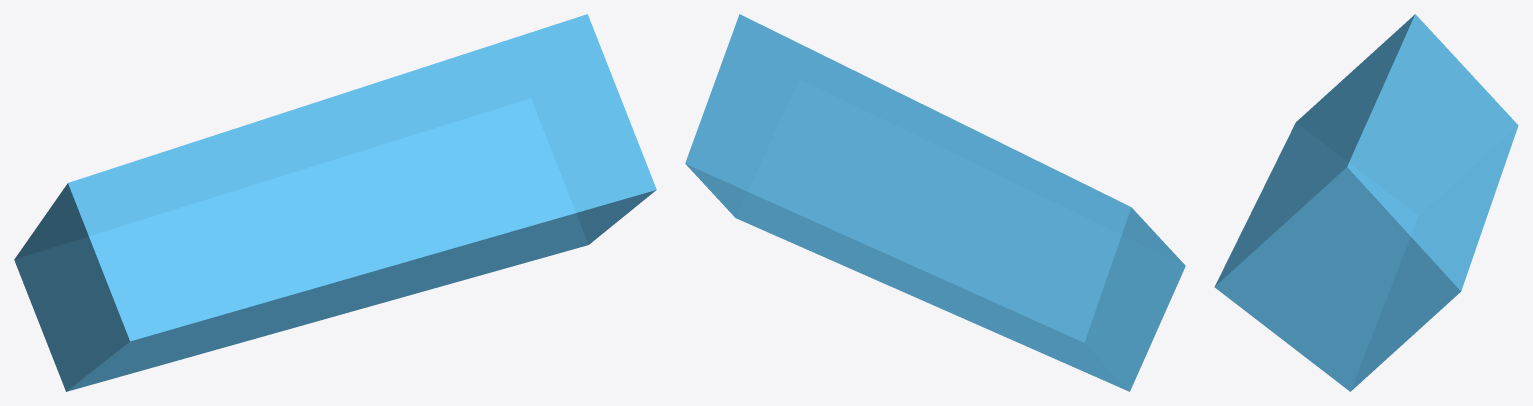
File: Event_420094457_HErechit_42.fbx
The picture shows the model from 3 angles, left to right: view 1: azimuth 30°, elevation 25°; view 2: azimuth 150°, elevation 25°; view 3: azimuth 270°, elevation 25°; orthographic projection. The views are drawn at different scales.
Visible parts, largest first — view 1: Model; view 2: Model; view 3: Model.
Boxes of the visible parts, x1,y1,x2,y2 form: Model: (14, 14, 656, 391); Model: (685, 14, 1185, 391); Model: (1214, 14, 1518, 391).
Bounding box in the file's own units: 1.12 × 0.6317 × 0.6317.
